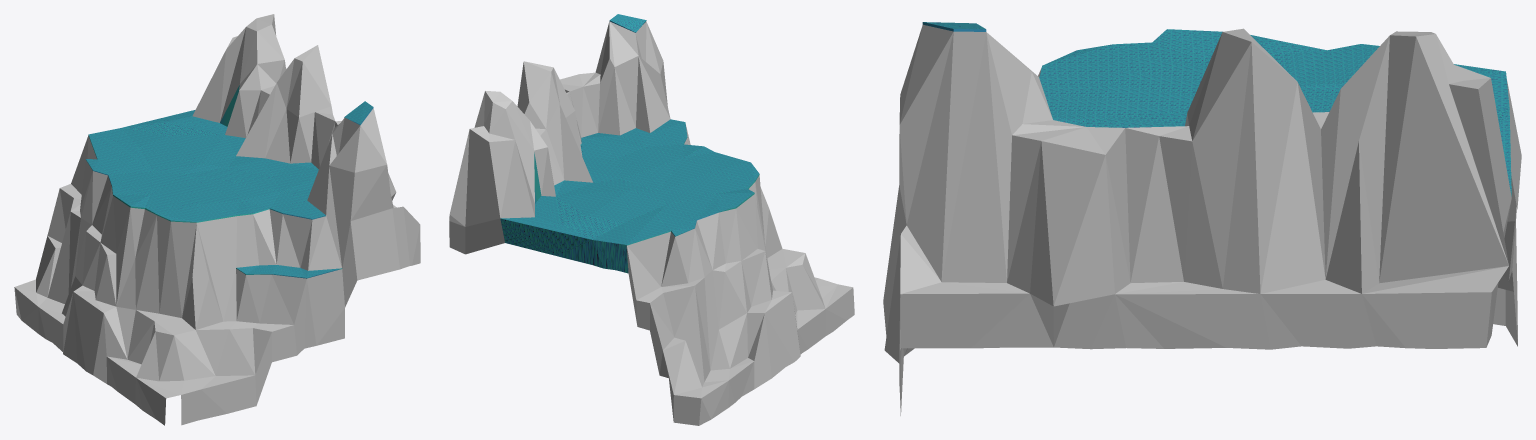
The model's file is Terrain_Plateau.fbx.
3 renders of one model, left to right at view 1: azimuth 30°, elevation 25°; view 2: azimuth 150°, elevation 25°; view 3: azimuth 270°, elevation 25°, orthographic. The views are drawn at different scales.
Parts seen in each view (by area): view 1: Town; view 2: Town; view 3: Town.
Boxes of the visible parts, box(x1,y1,x2,y2) form: Town: box(14, 14, 420, 425); Town: box(449, 14, 854, 425); Town: box(883, 22, 1521, 415).
Bounding box in the file's own units: 9541 × 8577 × 9433.
